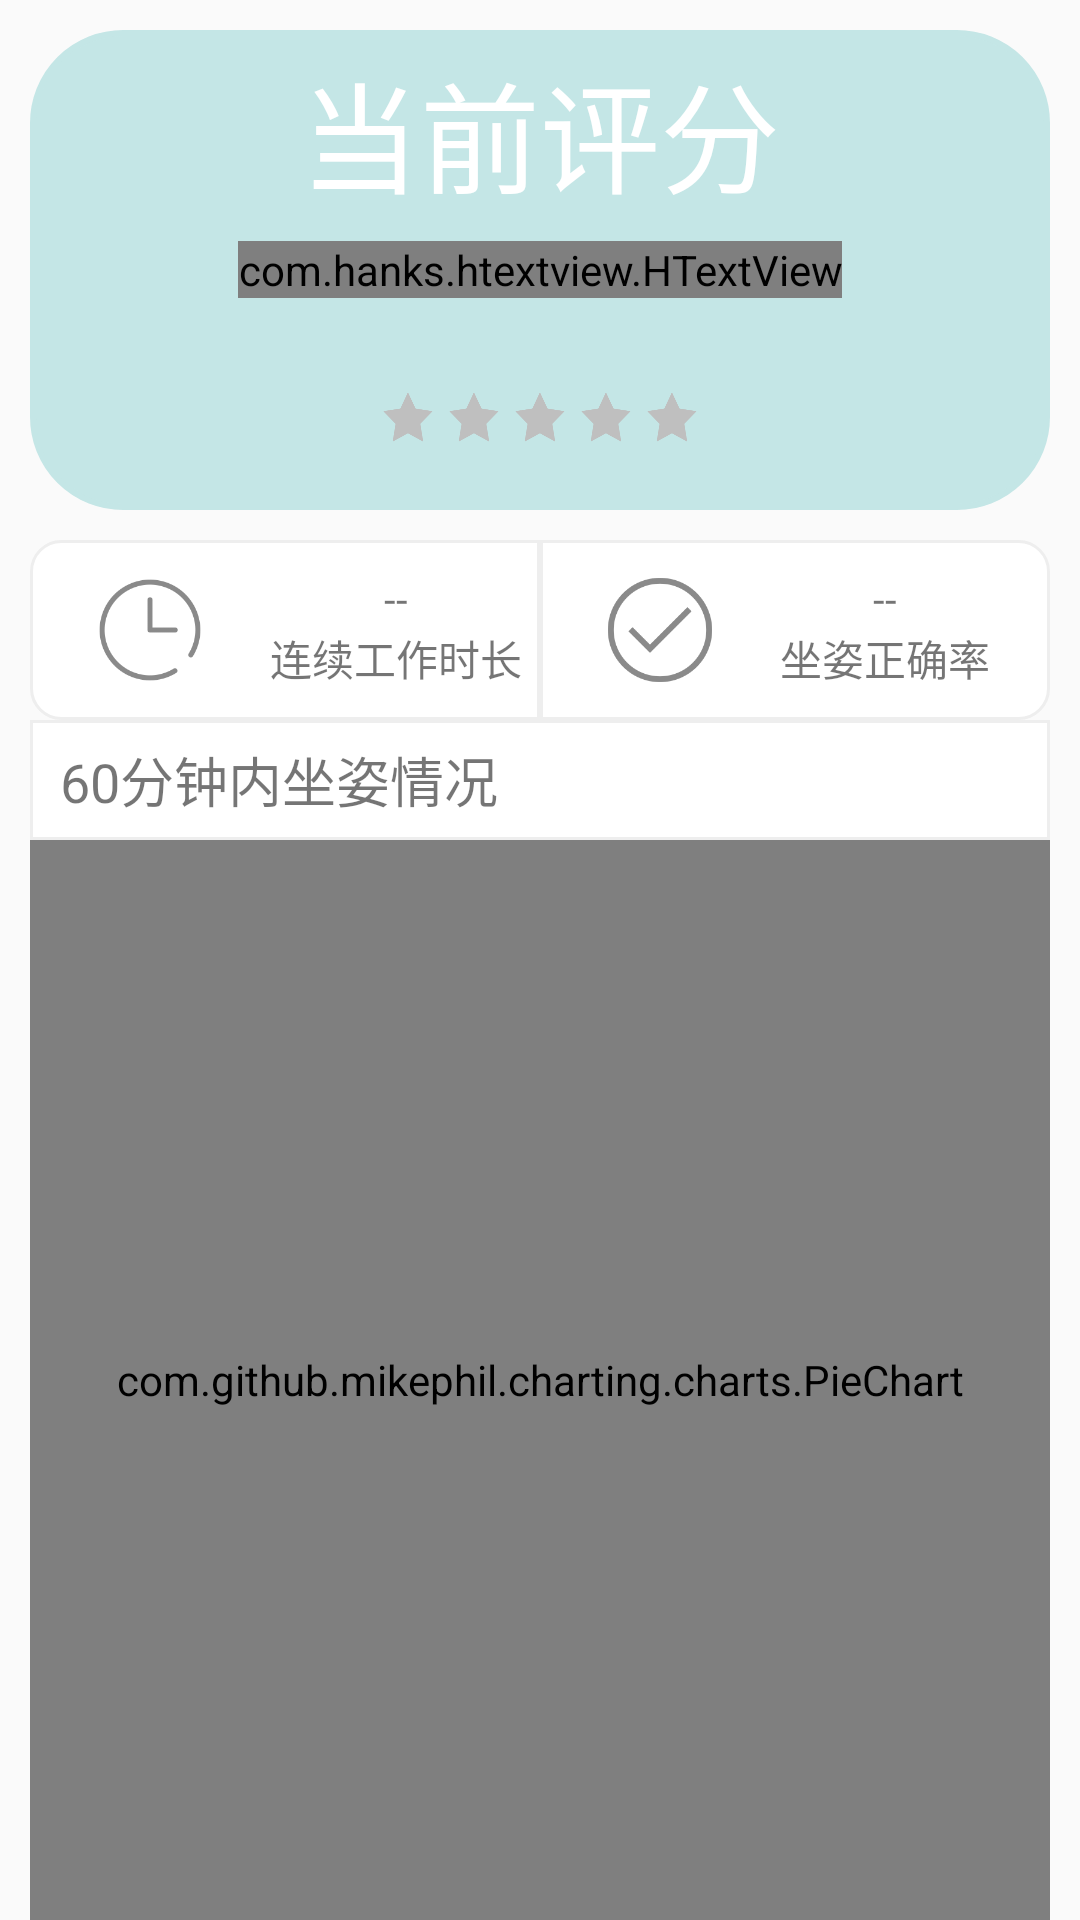

Where to tap for icons on this 1080 x 1920 app screen, as (x,y):
clock: (150,630)
correct: (660,630)
star: (408,417), (474,417), (540,417), (606,417), (672,417)
